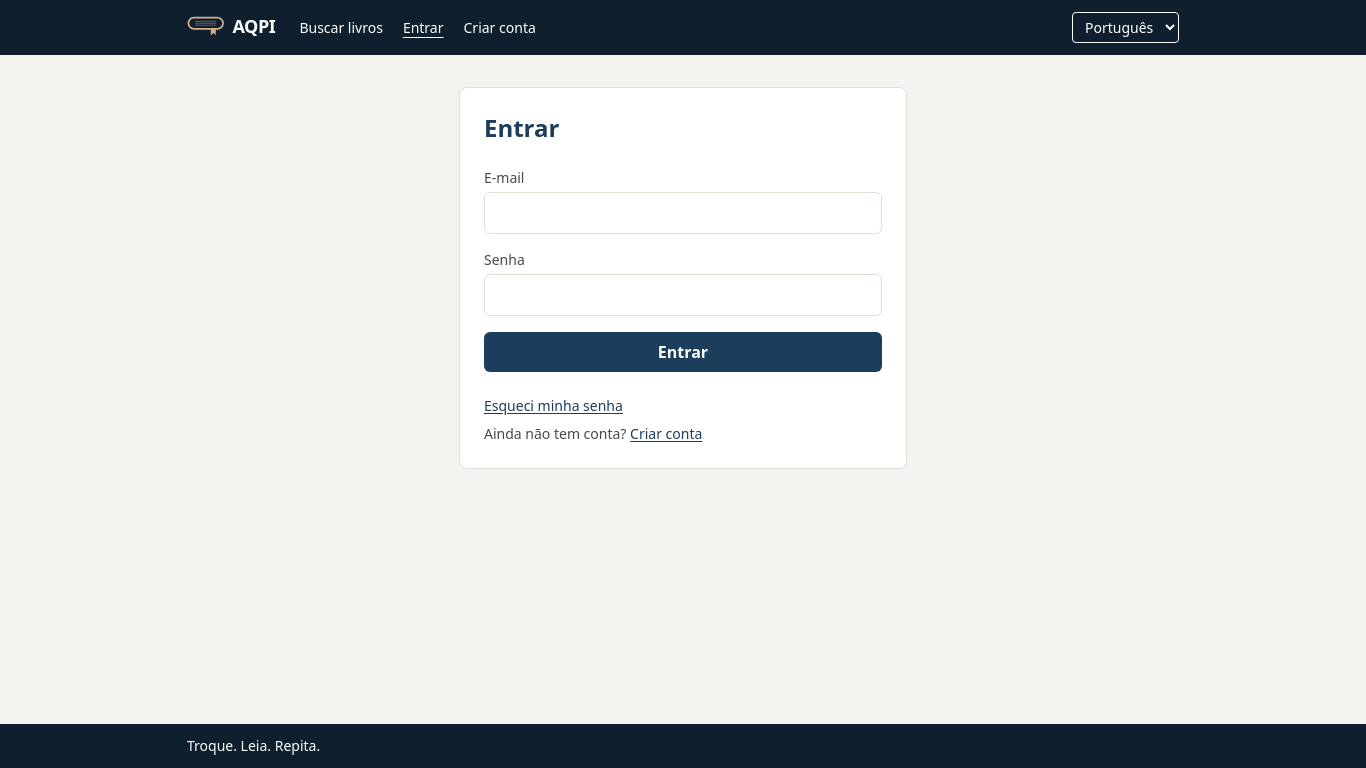
auth flow › offers to resend the confirmation email when the email is not confirmed
Step 1. Type "ana@example.test" into the field labelled "E-mail" → (683, 213), box [484,192,882,234]
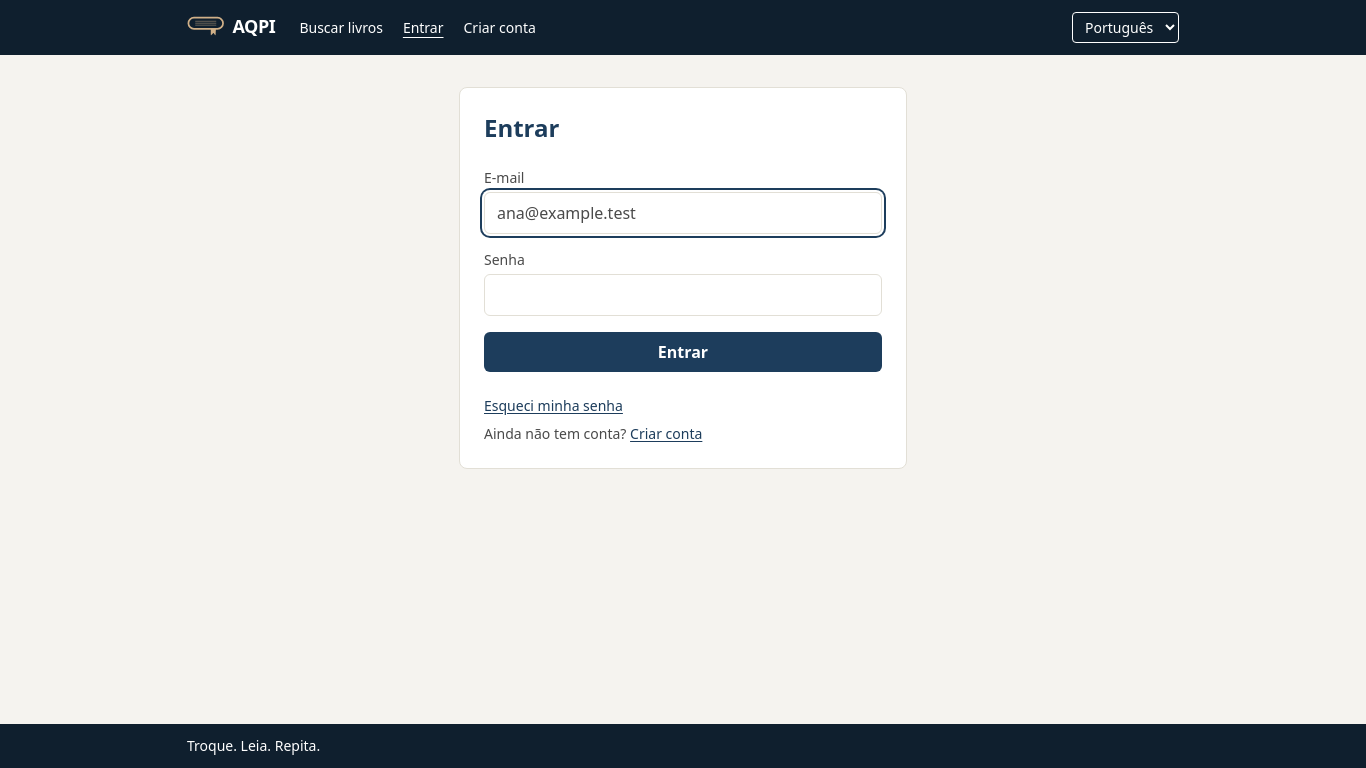
Step 2. Type "correct horse battery" into the password field labelled "Senha" → (683, 295), box [484,274,882,316]
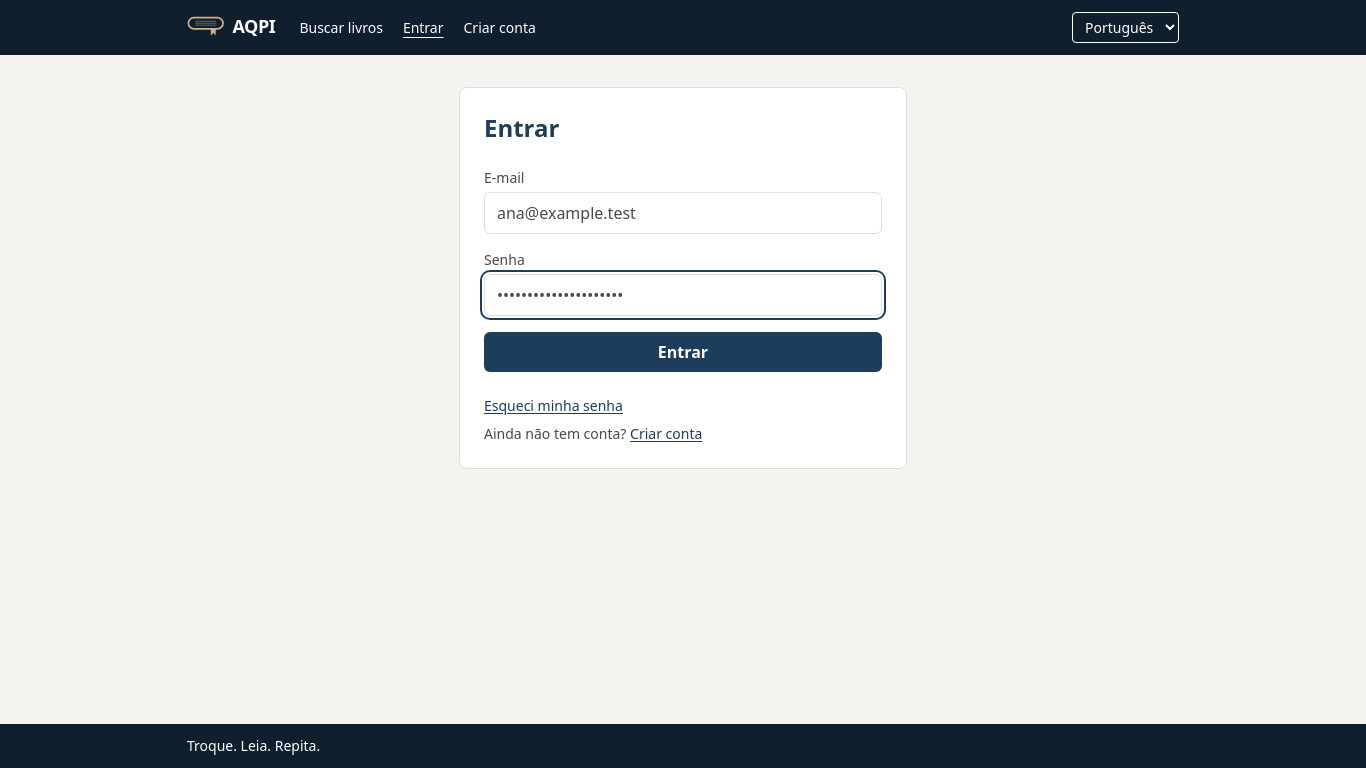
Step 3. Click the button "Entrar" → click(683, 352), box [484,332,882,372]
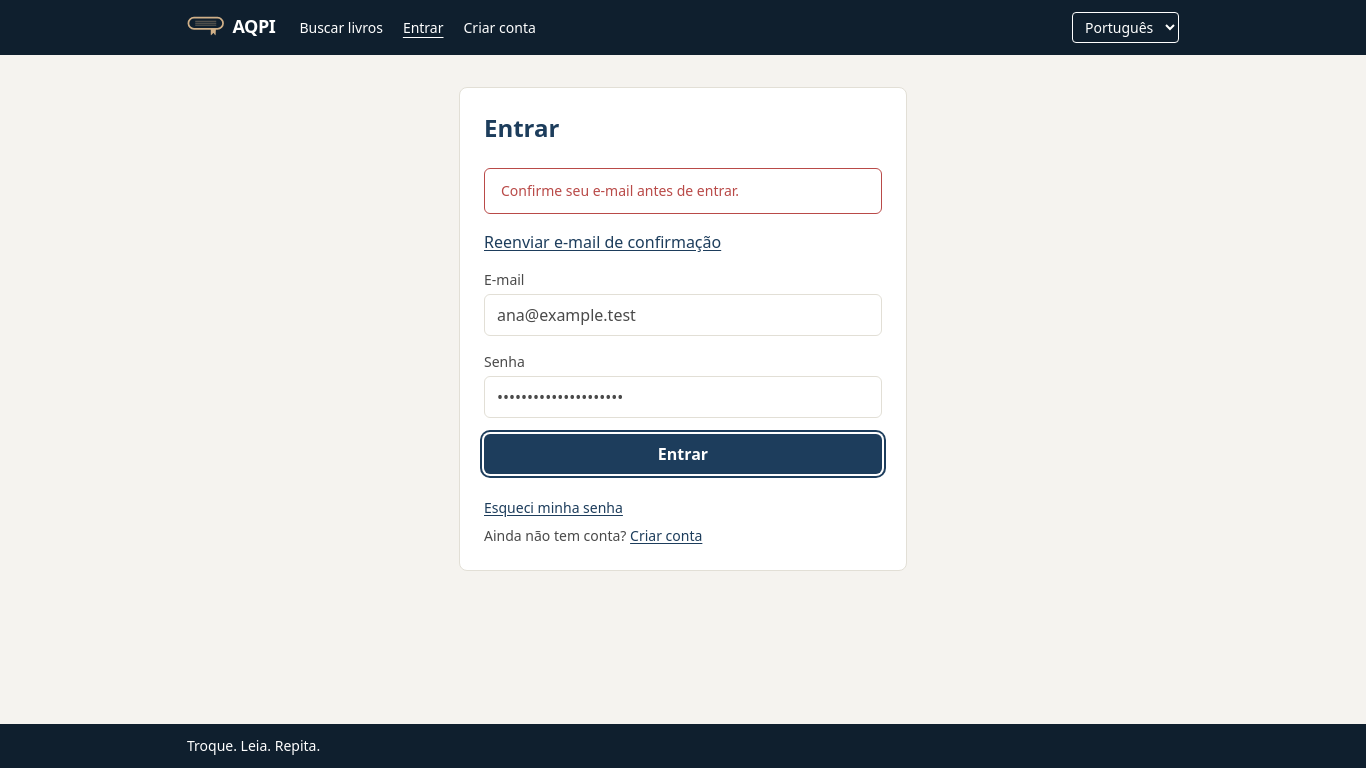
Step 4. Click the button "Reenviar e-mail de confirmação" → click(603, 242), box [484,230,721,254]
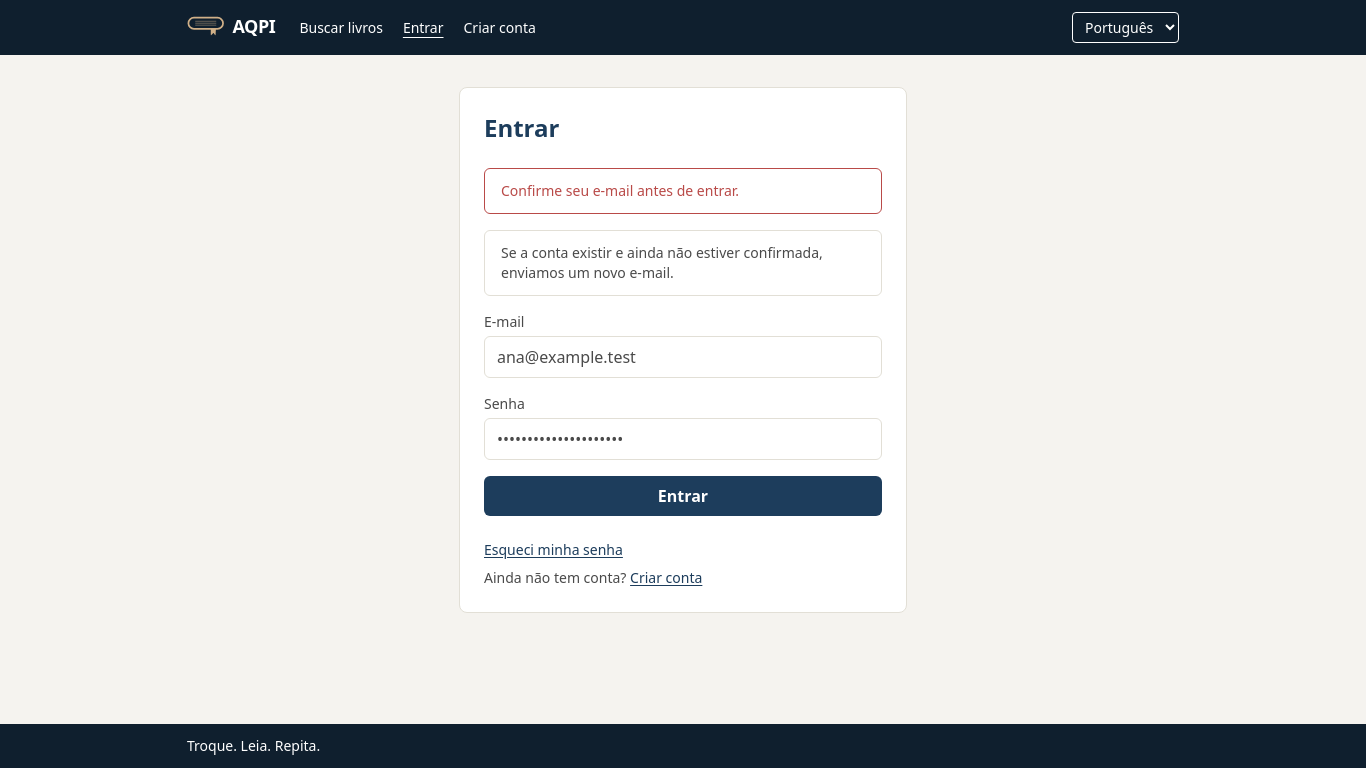
Result: the text "Se a conta existir e ainda não estiver confirmada, enviamos um novo e-mail." is shown at [484,230,882,296]
